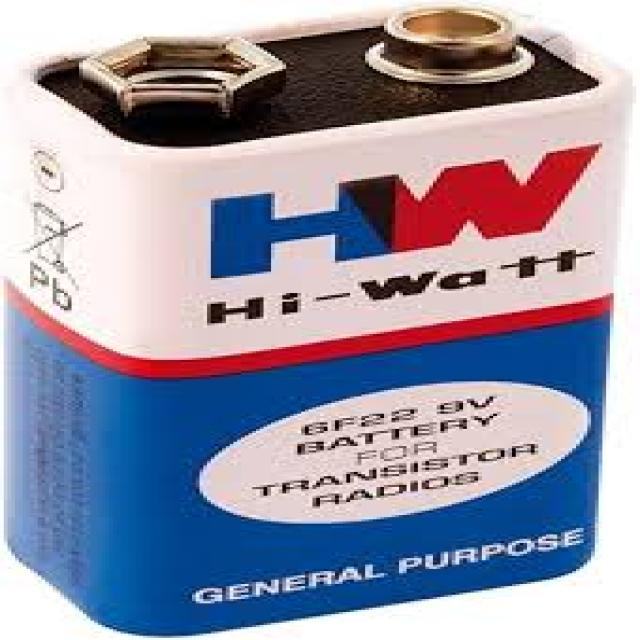Battery: (0, 2, 629, 634)
